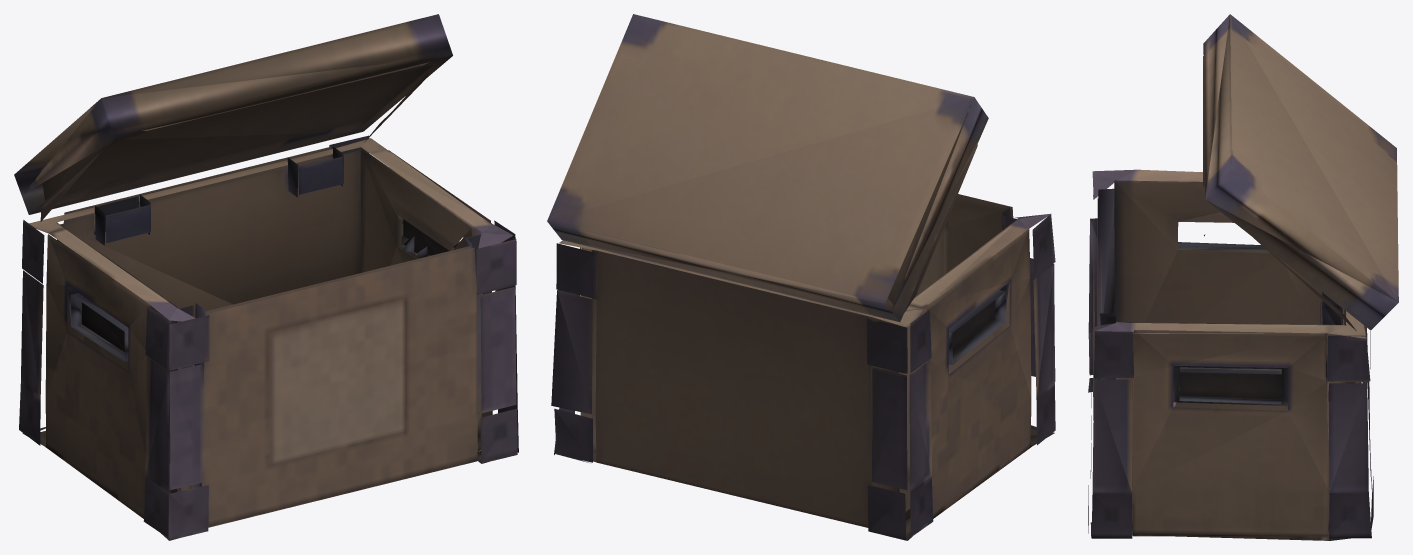
File: PRP_CARGO_CRATE.fbx
3 views of the same model, side by side, from view 1: azimuth 30°, elevation 25°; view 2: azimuth 150°, elevation 25°; view 3: azimuth 270°, elevation 25° (orthographic). The views are drawn at different scales.
Visible parts, largest first — view 1: PRP_CARGO_CRATE_Body.001, PRP_CARGO_CRATE_Lid; view 2: PRP_CARGO_CRATE_Body.001, PRP_CARGO_CRATE_Lid; view 3: PRP_CARGO_CRATE_Body.001, PRP_CARGO_CRATE_Lid.
Part boxes in pixels (bbox=[...]): PRP_CARGO_CRATE_Body.001: bbox=[19, 135, 518, 540]; PRP_CARGO_CRATE_Lid: bbox=[14, 14, 452, 221]; PRP_CARGO_CRATE_Body.001: bbox=[551, 194, 1055, 540]; PRP_CARGO_CRATE_Lid: bbox=[547, 14, 988, 322]; PRP_CARGO_CRATE_Body.001: bbox=[1088, 169, 1373, 540]; PRP_CARGO_CRATE_Lid: bbox=[1203, 14, 1398, 330].
Bounding box in the file's own units: 55.09 × 57.52 × 44.23.
1 material, 1 textured.
